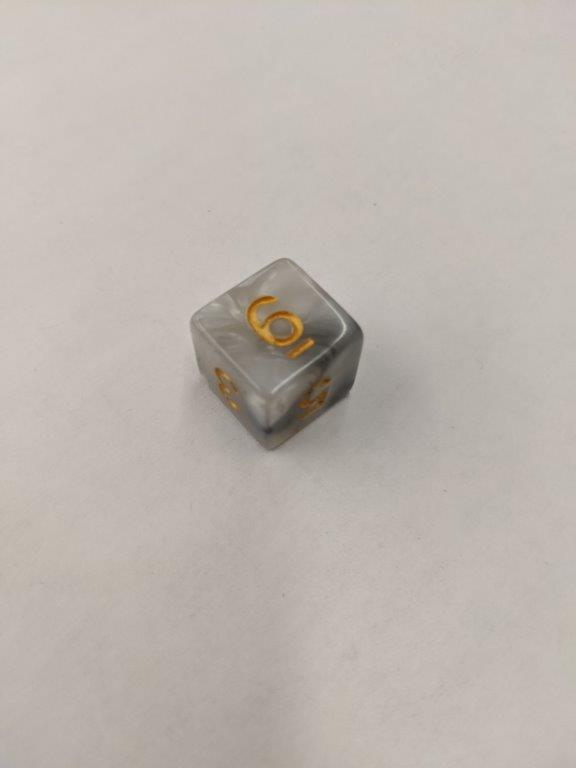d6-6: (195, 256, 362, 449)
